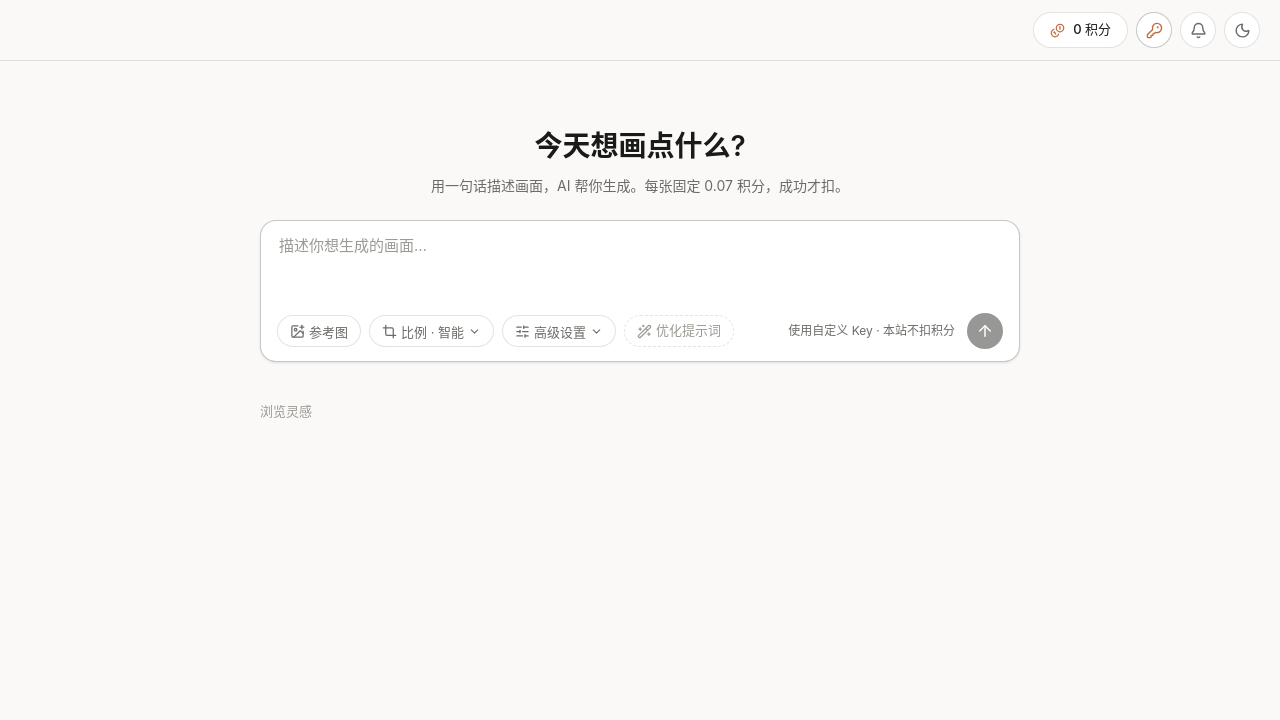
ConversationView key-mode route integration › returns from a first-submit 503 into the paused modal without losing the saved key
In the text box: (640, 269) [277, 233, 1003, 305], type "首次暂停回滚"
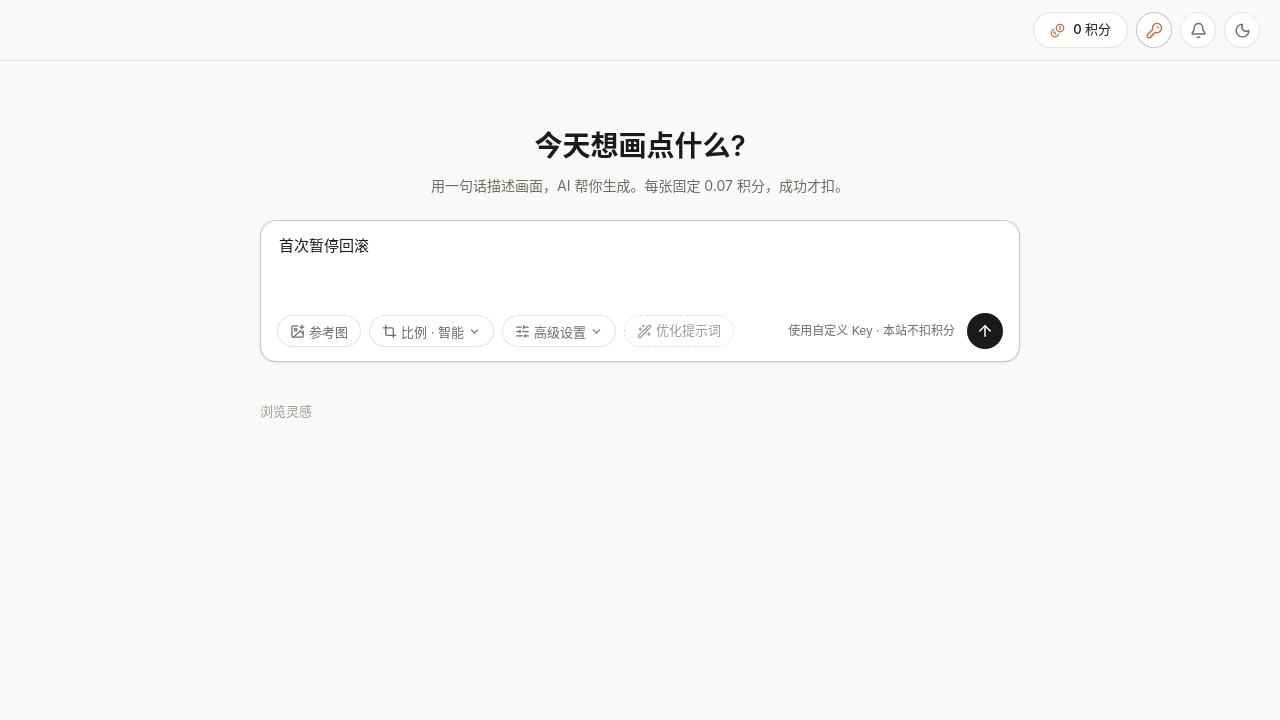
Click the button named "生成": (985, 331) [967, 313, 1003, 349]
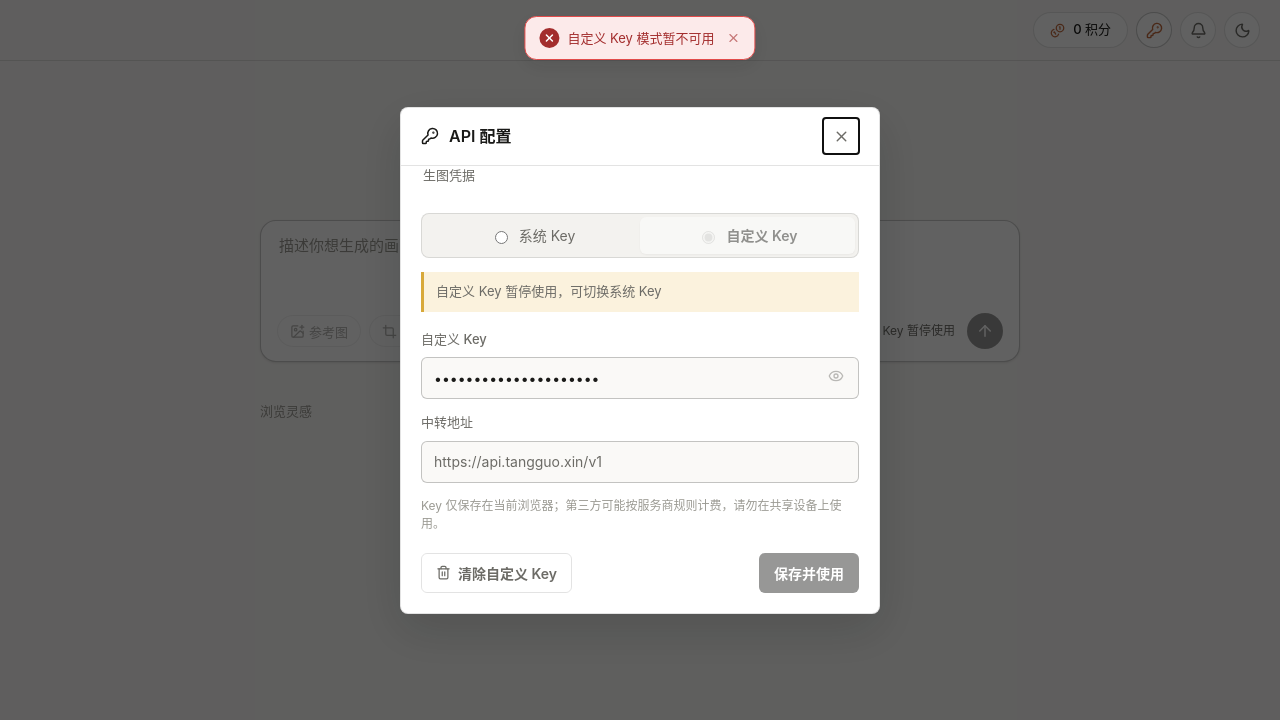
Result: the dialog "API 配置" is shown at [400, 106, 880, 614]
Result: the text "自定义 Key 暂停使用，可切换系统 Key" is shown at [421, 272, 859, 312]
